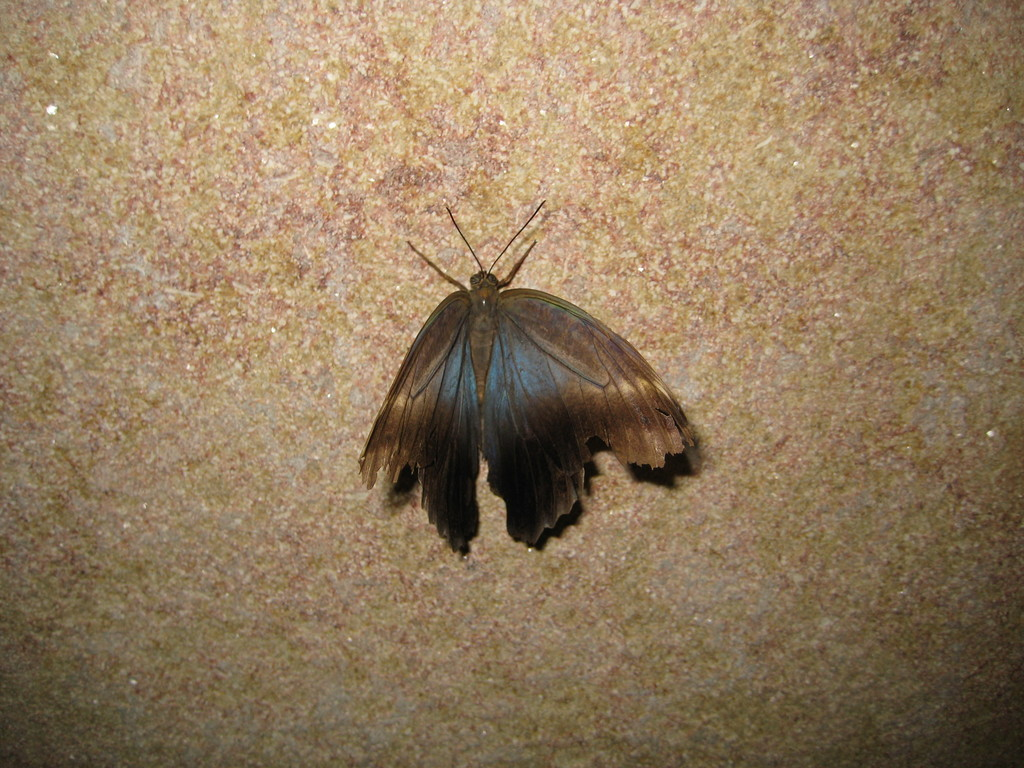Butterfly: (358, 207, 709, 563)
